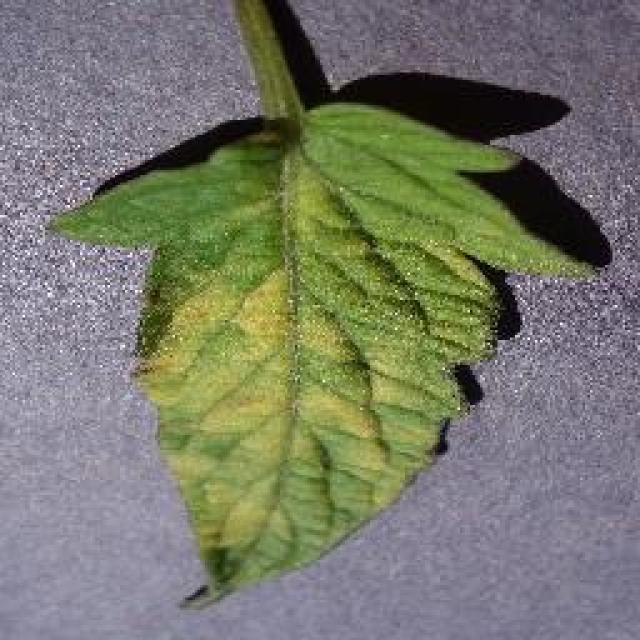Tomato___Leaf_Mold: (50, 0, 590, 605)
